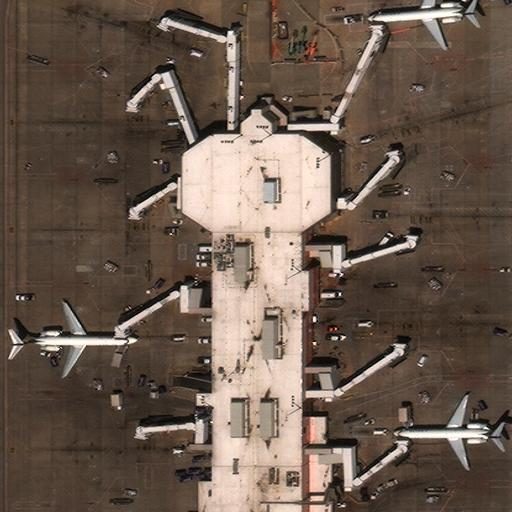Medium Civil Transport: (7, 301, 142, 378), (391, 392, 505, 471), (366, 0, 477, 51)
